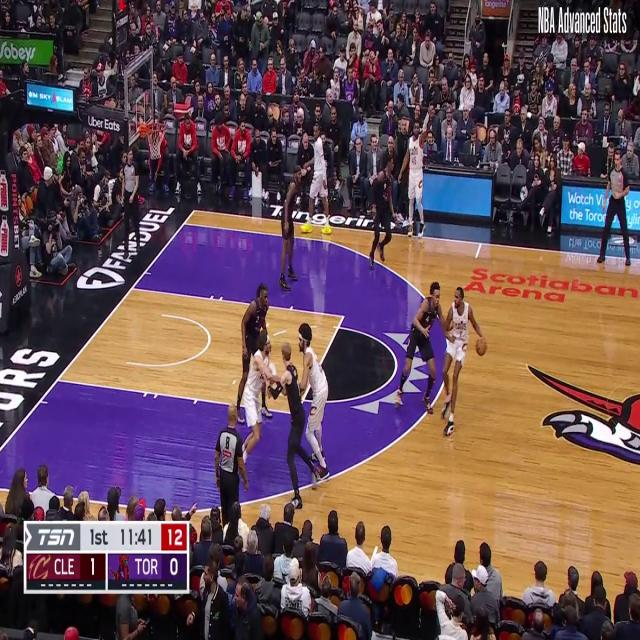ball: (476, 338, 486, 357)
judge: (212, 401, 248, 537), (599, 152, 631, 266), (122, 150, 142, 254)
player: (267, 339, 324, 506), (438, 287, 484, 436), (400, 283, 448, 415), (234, 280, 271, 426), (282, 165, 315, 286), (401, 118, 428, 244), (368, 158, 398, 270), (306, 123, 333, 240)
